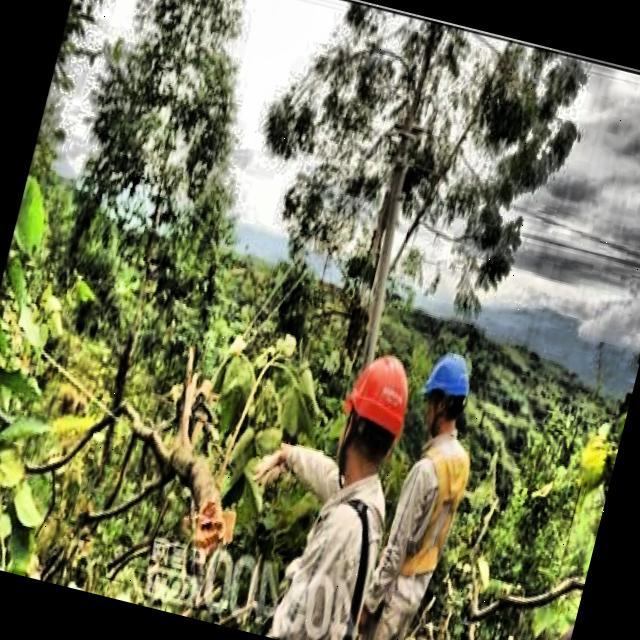helmet: (322, 338, 421, 491), (410, 346, 480, 446)
